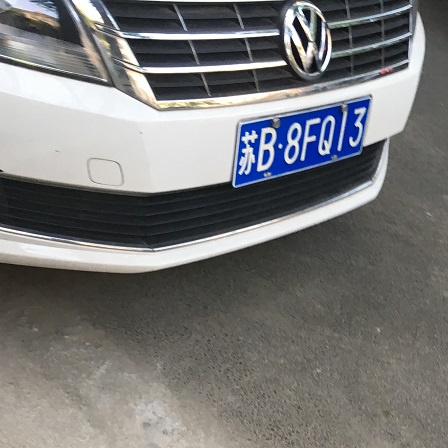plate: (234, 98, 372, 182)
